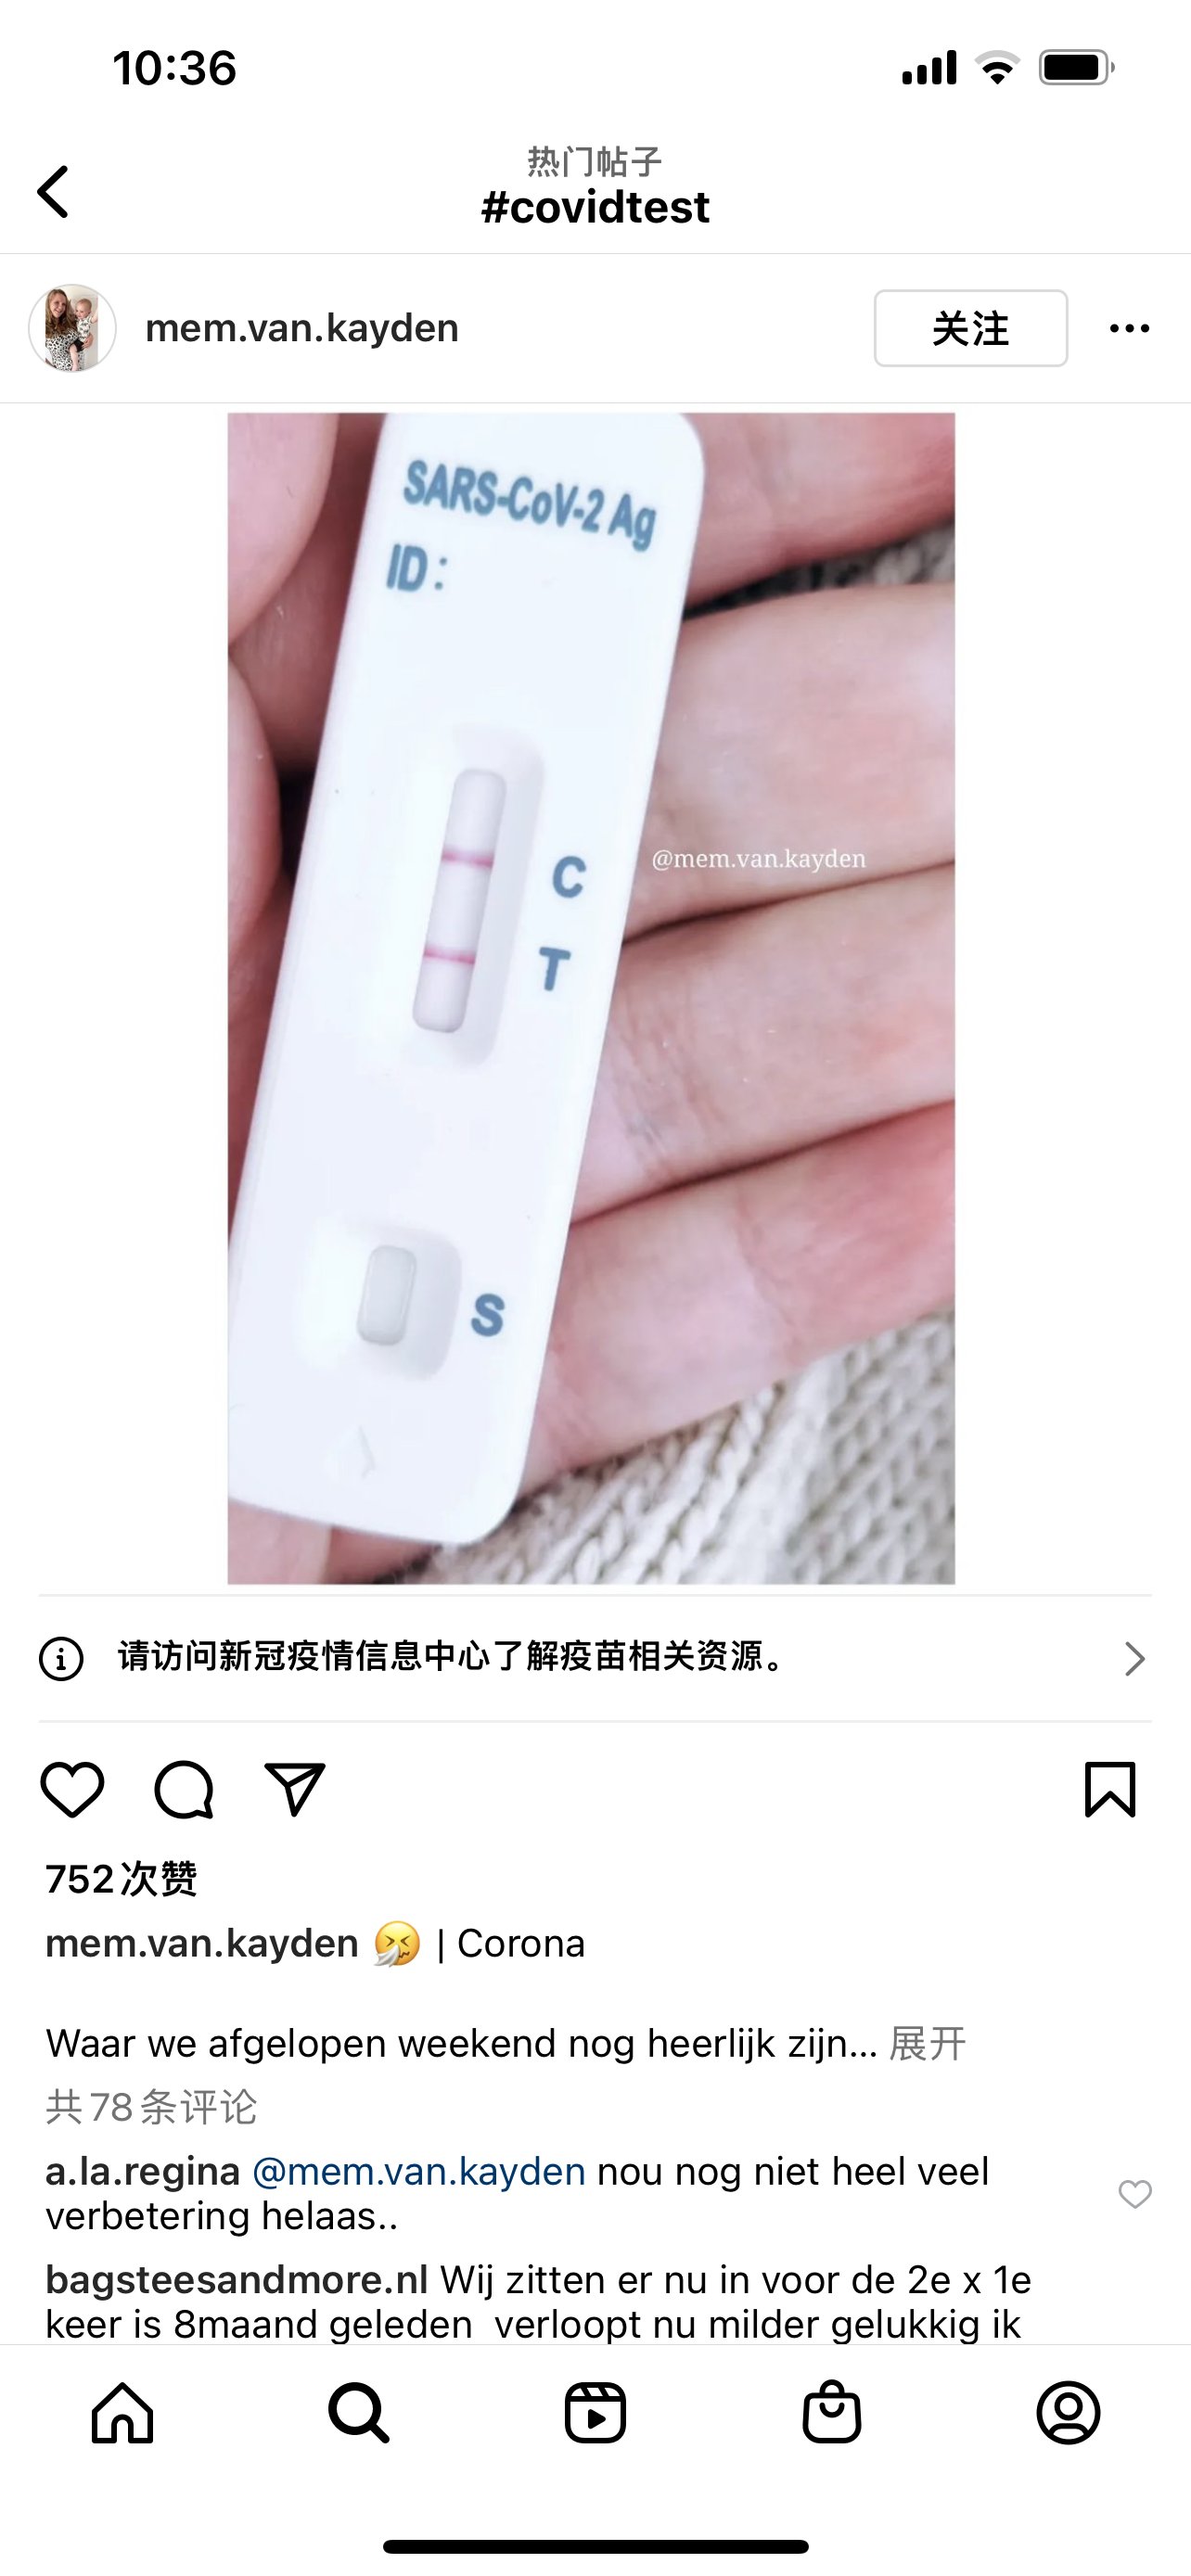positive: (412, 762, 506, 1065)
